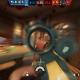Character: (39, 38, 43, 40)
Friend_label: (27, 42, 33, 45), (13, 32, 17, 36)
